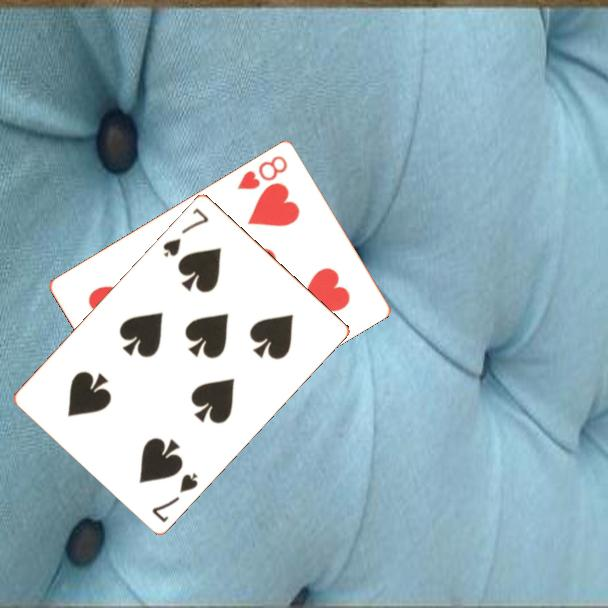h08: (234, 151, 291, 192)
s07: (148, 469, 201, 525), (159, 204, 211, 260)
